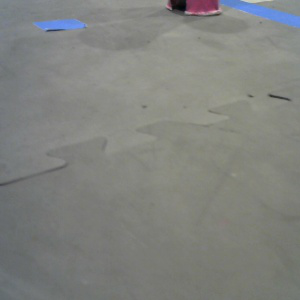right: (165, 1, 222, 15)
